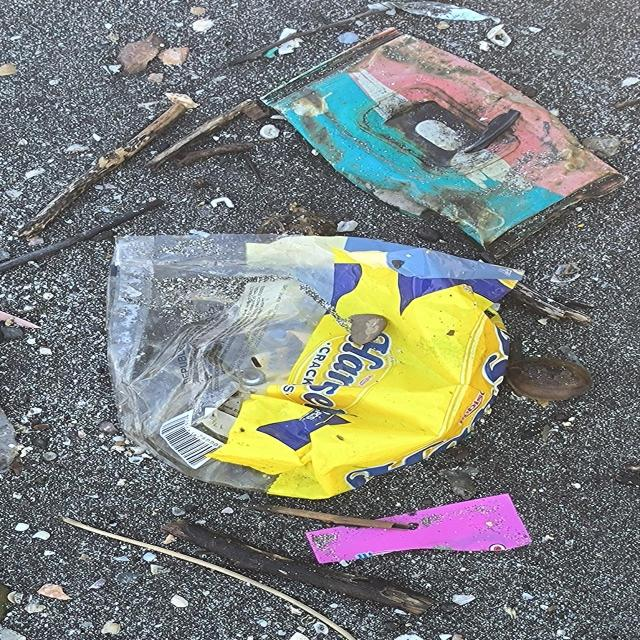plastic_waste: (112, 234, 527, 500), (262, 27, 630, 265), (307, 494, 535, 567)
